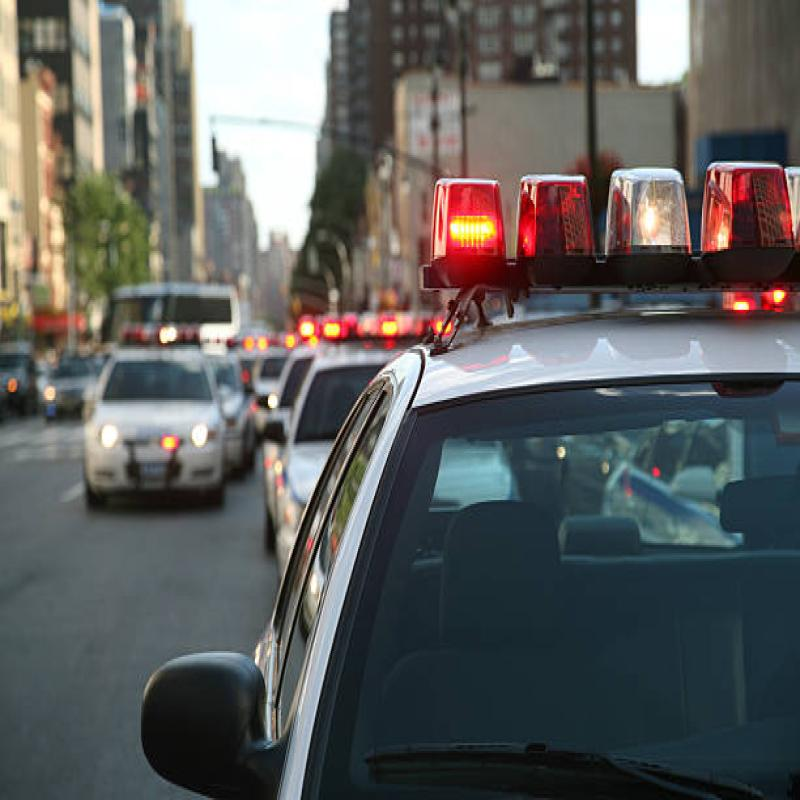AmbulanceSiren: (426, 146, 800, 328)
